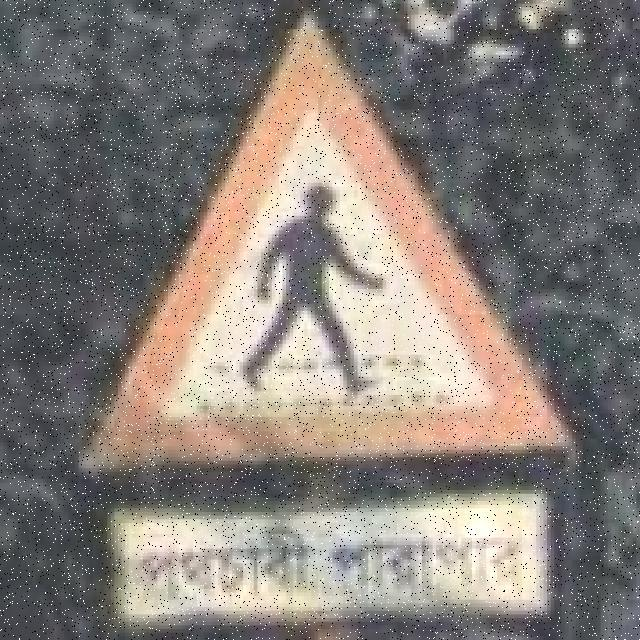Pedestrian-crossing: (72, 10, 572, 625)
